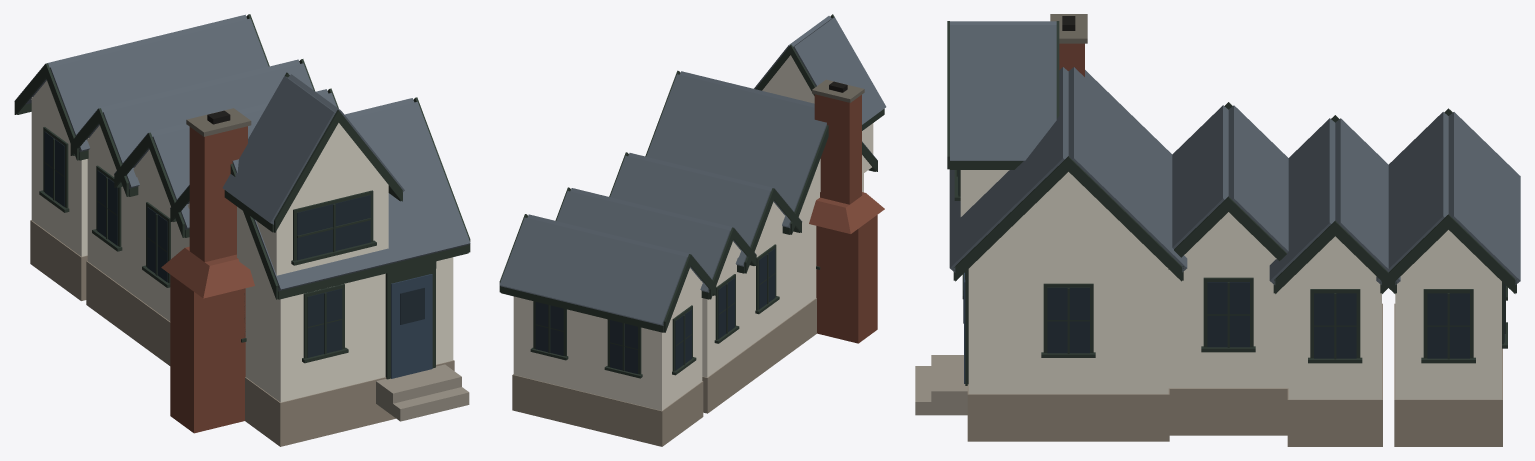
File: stucco-tudor-revival-house-0001.glb
3 views of the same model, side by side, from view 1: azimuth 30°, elevation 25°; view 2: azimuth 150°, elevation 25°; view 3: azimuth 270°, elevation 25° (orthographic). The views are drawn at different scales.
Parts seen in each view (by area): view 1: kit-stucco-tudor-revival-house-0001; view 2: kit-stucco-tudor-revival-house-0001; view 3: kit-stucco-tudor-revival-house-0001.
Boxes of the visible parts, <box> form: kit-stucco-tudor-revival-house-0001: <box>14,14,470,446</box>; kit-stucco-tudor-revival-house-0001: <box>499,14,886,446</box>; kit-stucco-tudor-revival-house-0001: <box>915,14,1520,446</box>.
Size of the model in its own units: 5.69 by 7.35 by 11.35.
